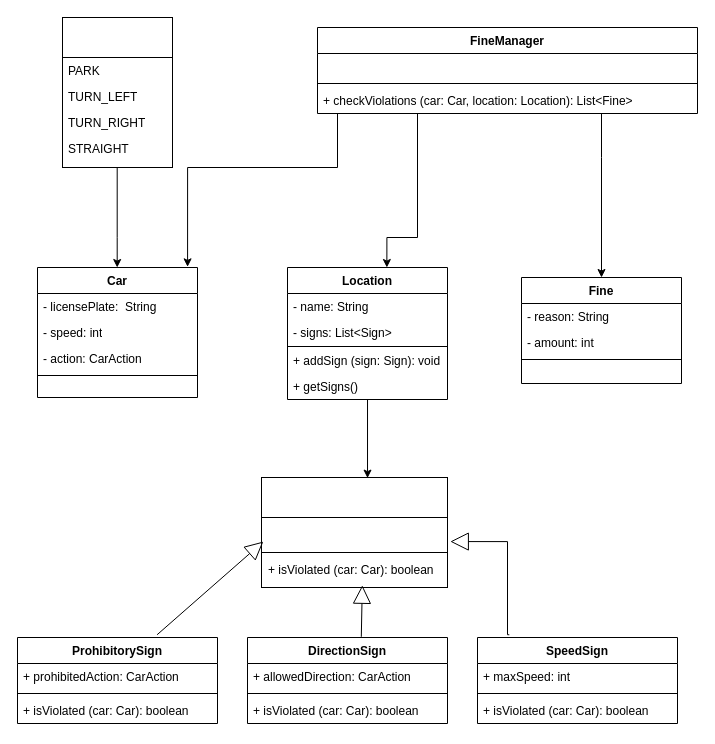
The diagram is 715 pixels wide and 744 high, and some of its shapes have lost their labels. The centre of each missing label's shape, as x and y in pixels:
"«abstract» Sign" goes at (354,497).
"«enum» CarAction" goes at (117,37).
